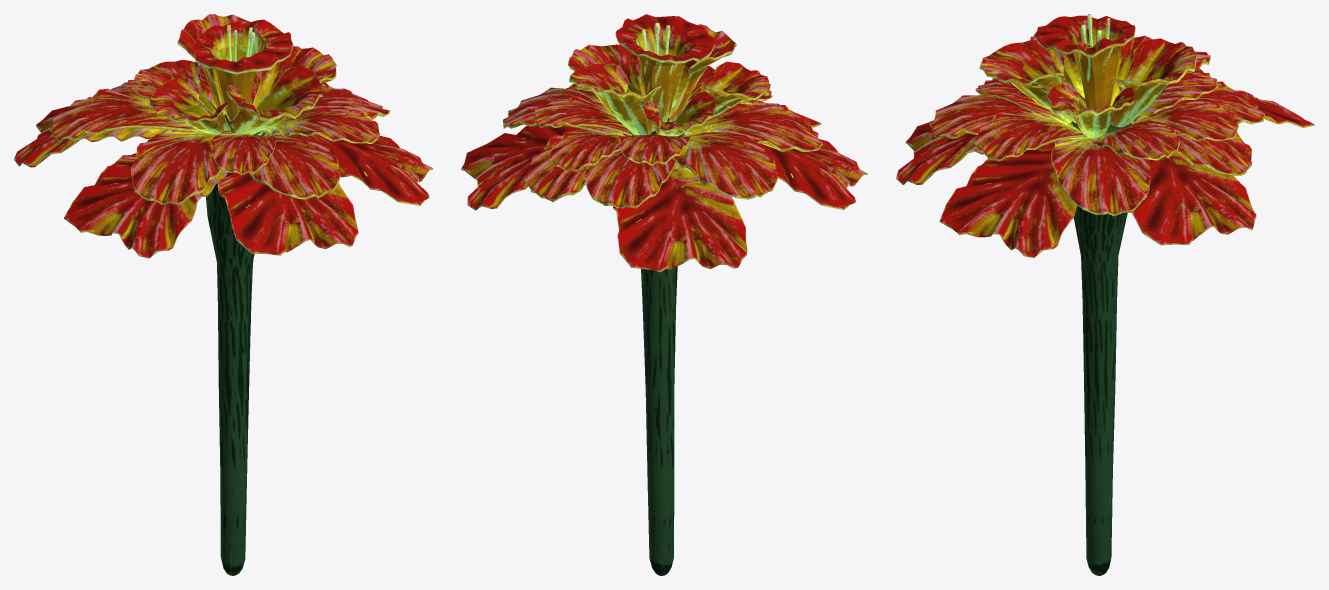
The model's file is flowerorange.glb.
3 renders of one model, left to right at view 1: azimuth 30°, elevation 25°; view 2: azimuth 150°, elevation 25°; view 3: azimuth 270°, elevation 25°, orthographic. The views are drawn at different scales.
Parts seen in each view (by area): view 1: Flower_Low_Complete; view 2: Flower_Low_Complete; view 3: Flower_Low_Complete.
Boxes of the visible parts, left/top/right/bottom form: Flower_Low_Complete: left=14, top=14, right=432, bottom=575; Flower_Low_Complete: left=461, top=14, right=867, bottom=575; Flower_Low_Complete: left=896, top=14, right=1314, bottom=575.
Size of the model in its own units: 5.69 by 8.75 by 5.93.
Materials: 1 (1 with a texture image).
